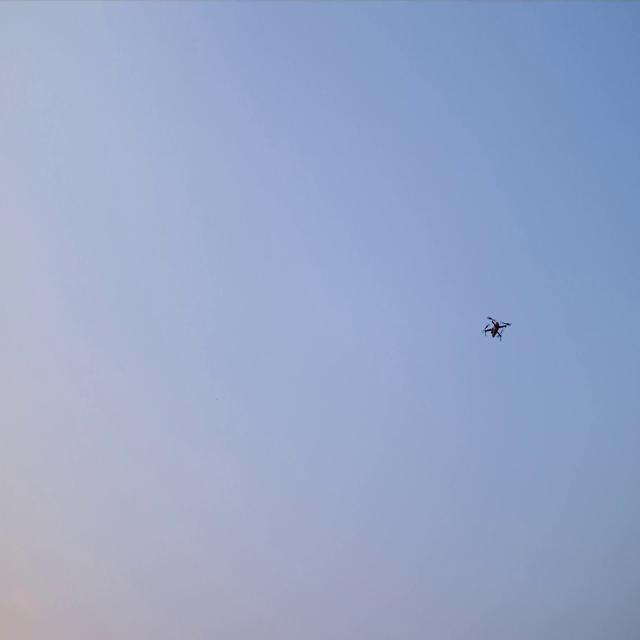UAV: (480, 314, 513, 345)
